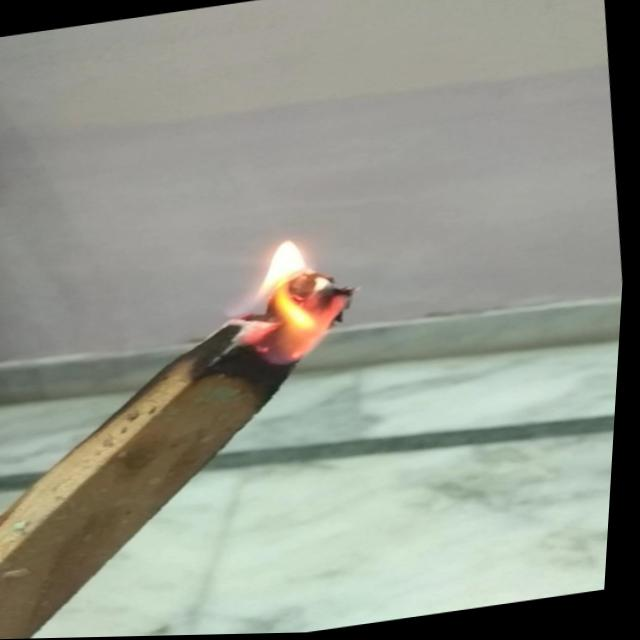fire: (216, 221, 381, 379)
